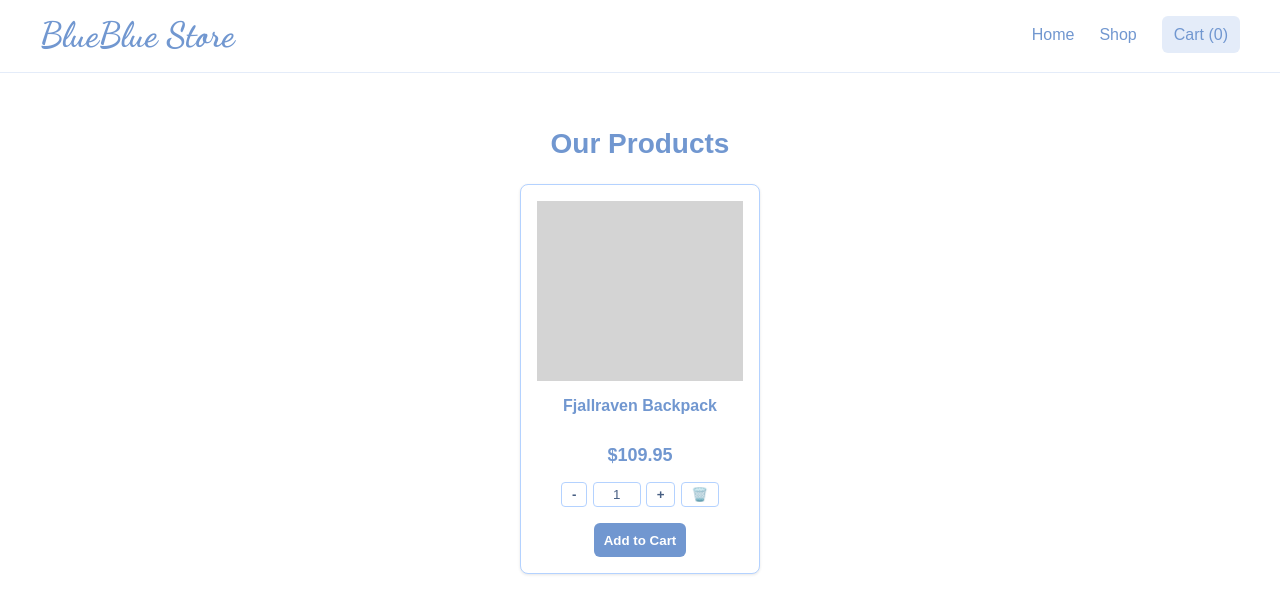
Test case: App integration tests › adds items to cart from Shop page and updates cart count in navbar
The width and height of the screenshot is (1280, 592).
Expected: the heading "Fjallraven Backpack" is shown, [563,397,717,414]
Replace the text in the number field with "2": (617, 495) [593,482,641,507]
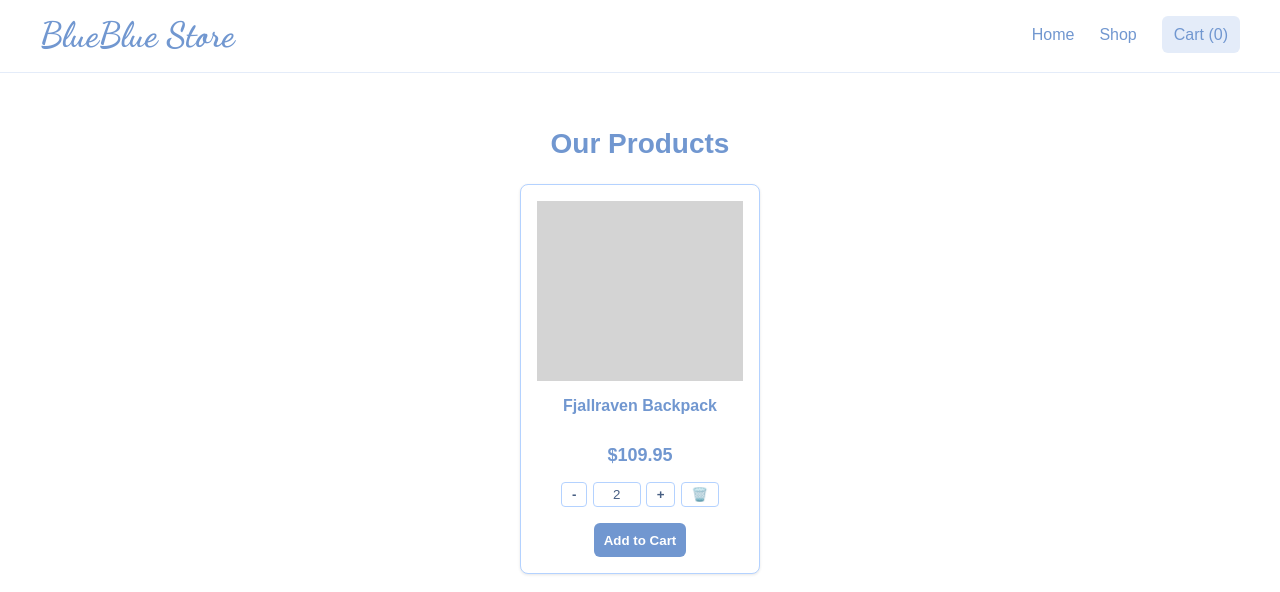
Click the button "Add to Cart": (640, 540) [594,523,686,557]
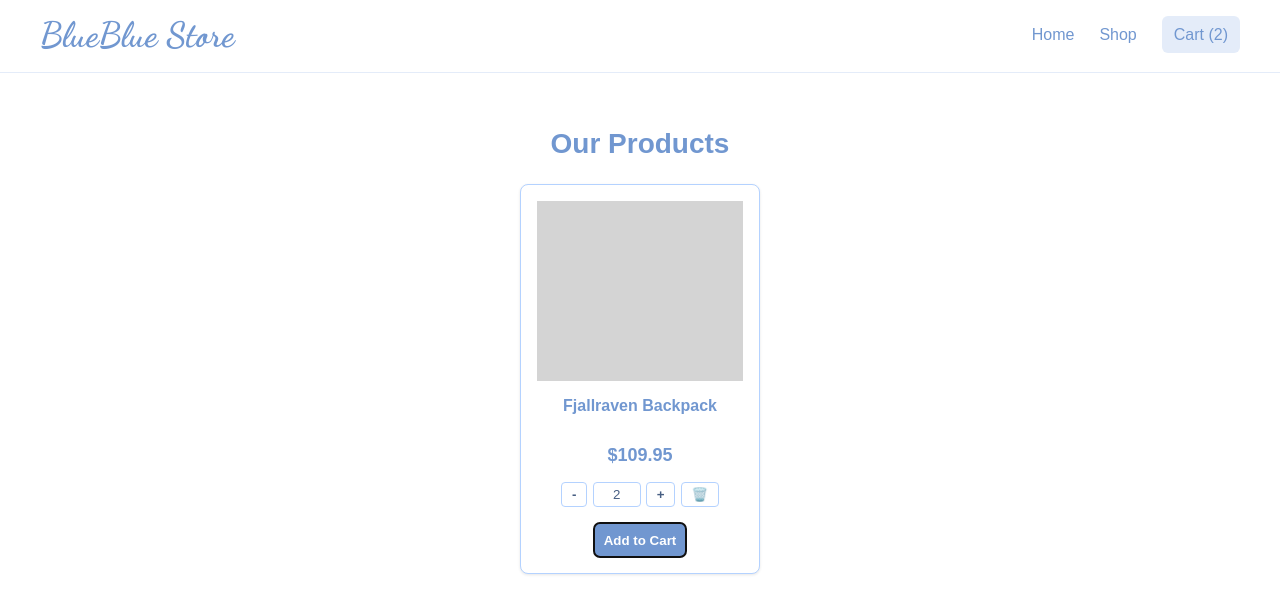
Expected: the link "Cart (2)" is shown, [1162,16,1240,53]
